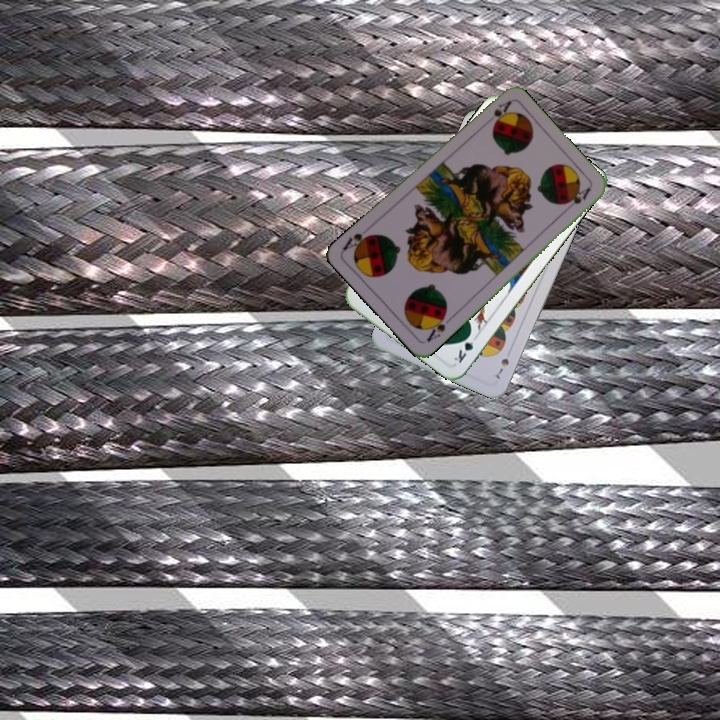GK: (450, 328, 480, 365)
S7: (492, 354, 512, 382)
SA: (480, 97, 514, 129), (422, 308, 449, 344)
